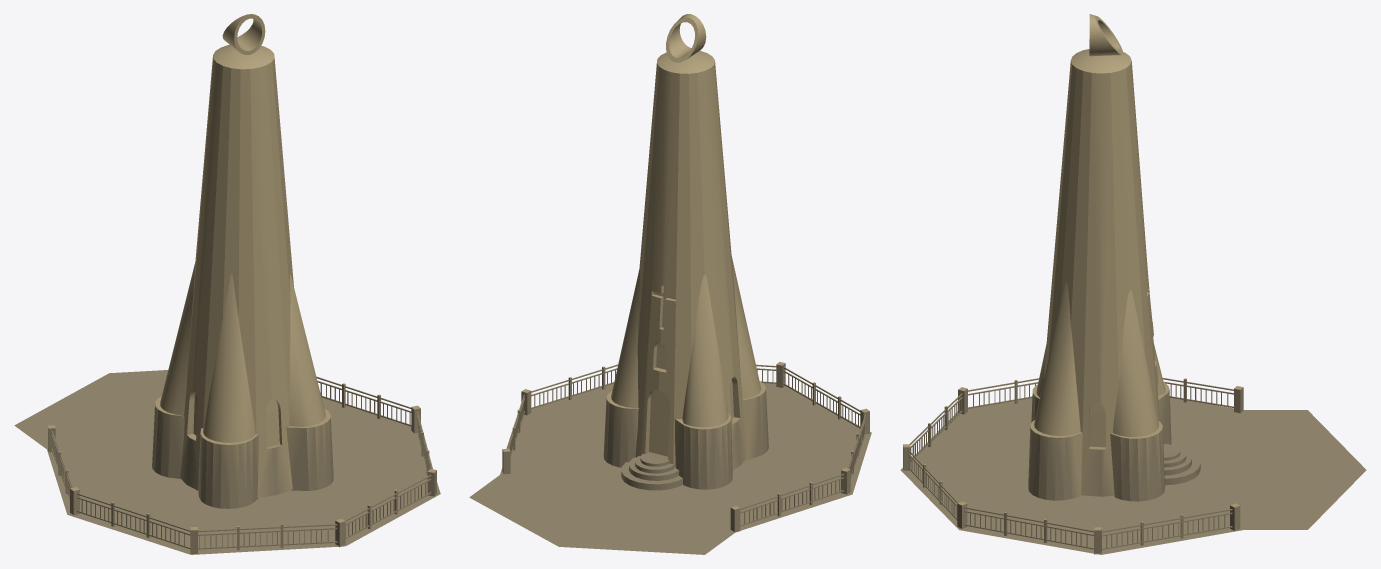
3 renders of one model, left to right at view 1: azimuth 30°, elevation 25°; view 2: azimuth 150°, elevation 25°; view 3: azimuth 270°, elevation 25°, orthographic. The views are drawn at different scales.
Visible parts, largest first — view 1: pCube49:PIV; view 2: pCube49:PIV; view 3: pCube49:PIV.
Part boxes in pixels (left/top/right/bottom): pCube49:PIV: left=14, top=14, right=440, bottom=554; pCube49:PIV: left=469, top=14, right=871, bottom=554; pCube49:PIV: left=900, top=14, right=1366, bottom=554.
Size of the model in its own units: 22.6 by 28.46 by 26.22.
